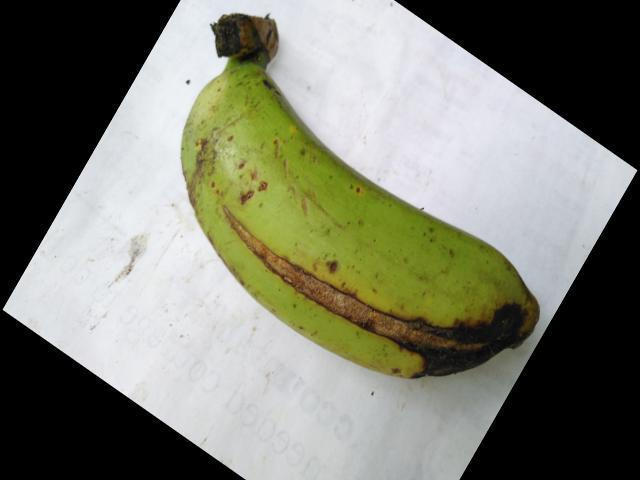rotten: (198, 183, 531, 405)
